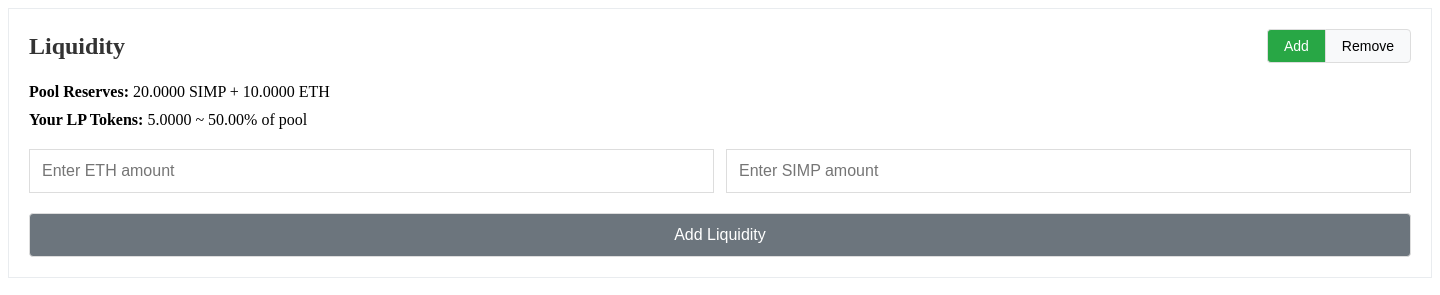
Liquidity › should maintain tab state
The width and height of the screenshot is (1440, 295).
// Switch to remove
Step 1. Click the button "Remove" → (1368, 46), box [1325, 29, 1411, 63]
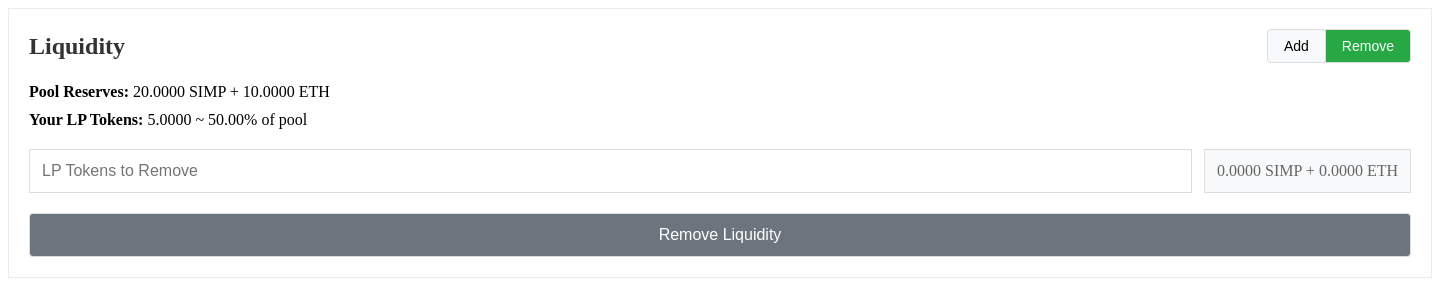
Now the number field with placeholder "LP Tokens to Remove" is shown, box [29, 149, 1192, 193]
// Switch back to add
Step 2. Click the button "Add" → (1296, 46), box [1267, 29, 1325, 63]
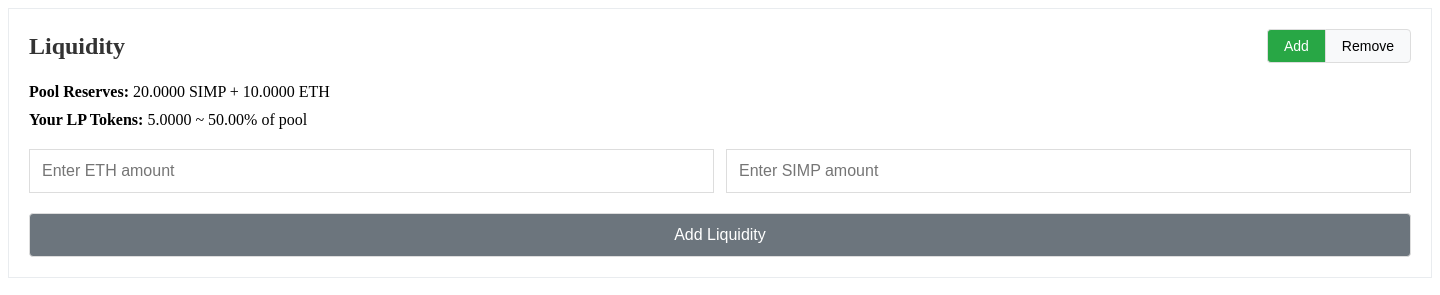
Now the number field with placeholder "Enter ETH amount" is shown, box [29, 149, 714, 193]
